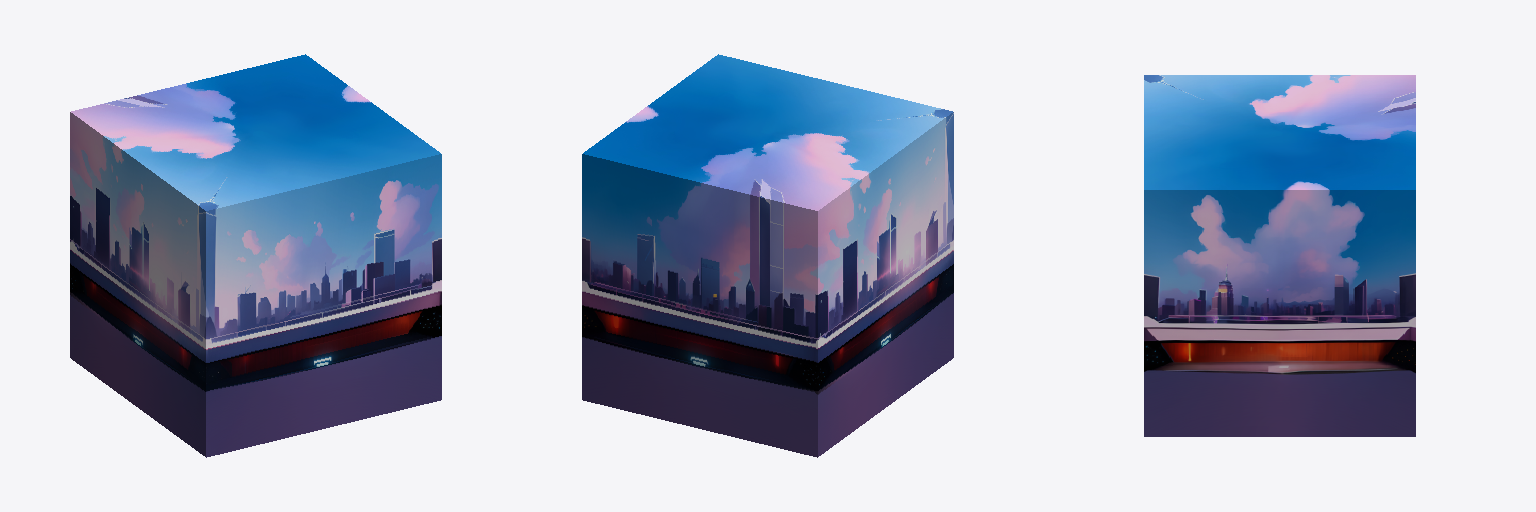
The picture shows the model from 3 angles: view 1: azimuth 30°, elevation 25°; view 2: azimuth 150°, elevation 25°; view 3: azimuth 270°, elevation 25°; orthographic projection.
Visible parts, largest first — view 1: Cube; view 2: Cube; view 3: Cube.
Part boxes in pixels (left/top/right/bottom): Cube: left=70, top=54, right=441, bottom=457; Cube: left=582, top=54, right=953, bottom=457; Cube: left=1144, top=75, right=1415, bottom=436.
Size of the model in its own units: 1325 by 1325 by 1325.
Materials: 1 (1 with a texture image).